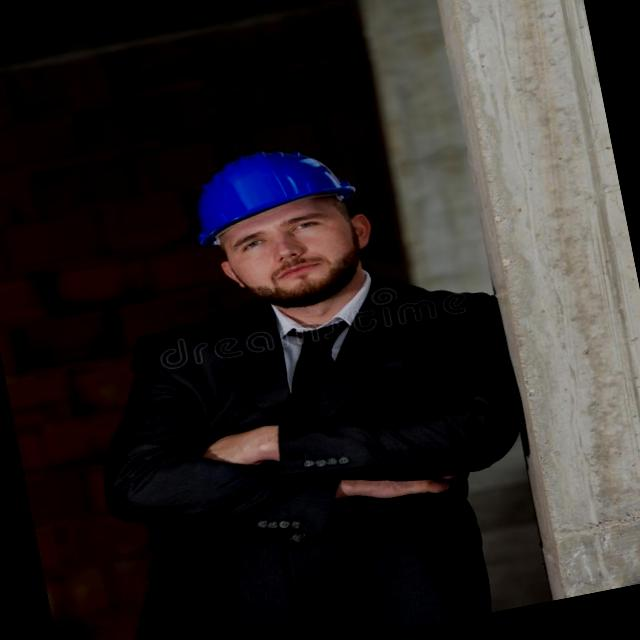helmet: (160, 129, 368, 258)
no-goggles: (206, 202, 364, 264)
no-vest: (107, 271, 511, 640)
